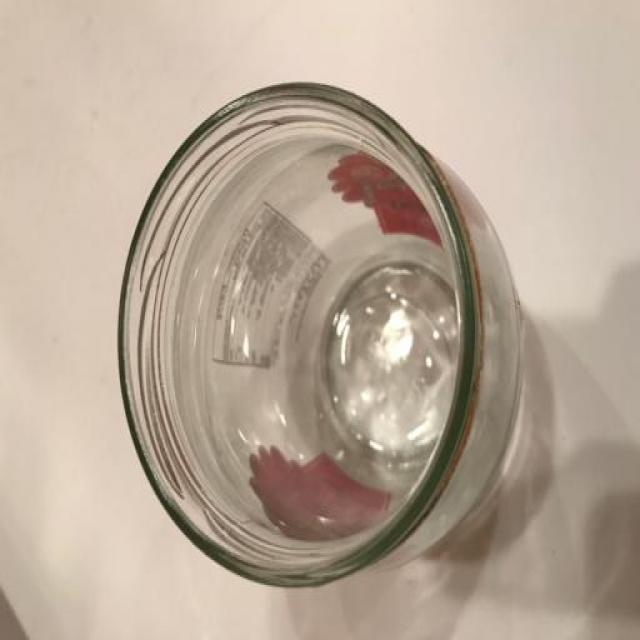glass: (107, 72, 536, 602)
